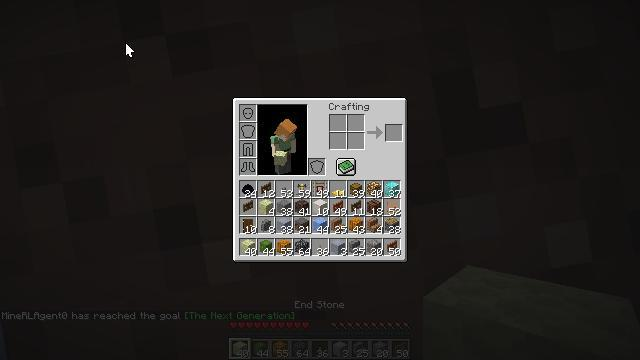cursor: (42, 125, 58, 135)
